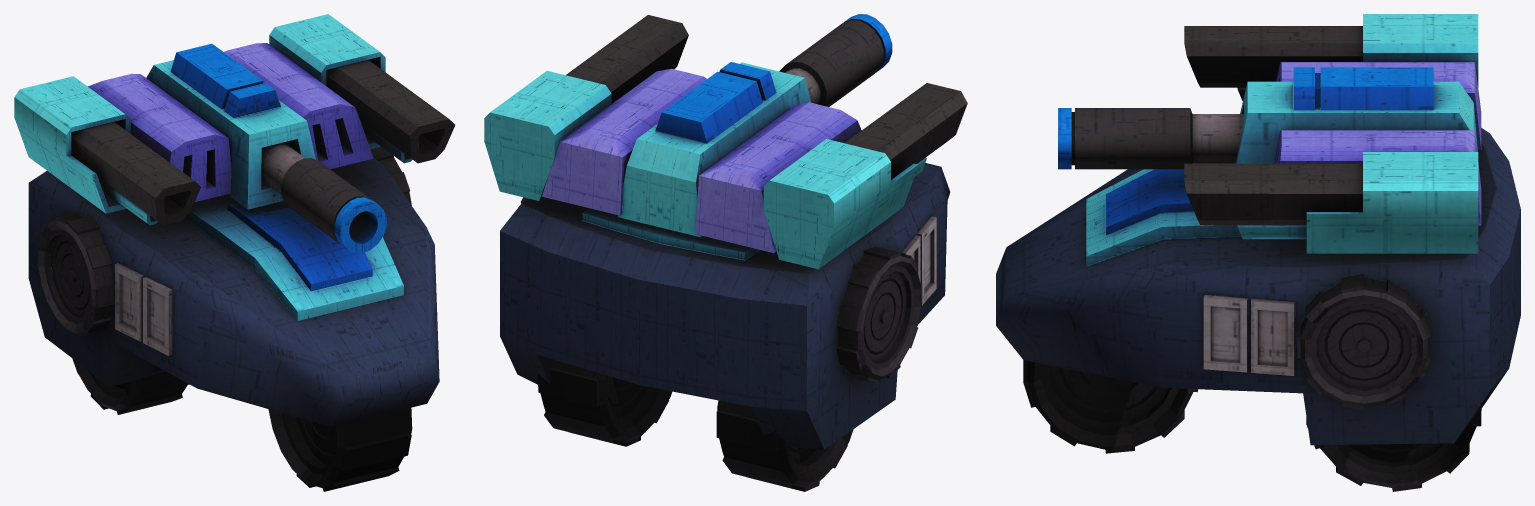
The model's file is PlayerA13.obj.
3 renders of one model, left to right at view 1: azimuth 30°, elevation 25°; view 2: azimuth 150°, elevation 25°; view 3: azimuth 270°, elevation 25°, orthographic. The views are drawn at different scales.
Visible parts, largest first — view 1: Object001, Object002, Object004, Object003; view 2: Object001, Object002, Object003; view 3: Object001, Object002, Object004, Object003.
Part boxes in pixels (x1,y1,x2,y2): Object001: (28, 43, 439, 426); Object002: (14, 14, 455, 225); Object004: (268, 407, 412, 491); Object003: (72, 358, 189, 414); Object001: (500, 14, 950, 449); Object002: (484, 15, 967, 269); Object003: (538, 359, 853, 491); Object001: (996, 62, 1520, 445); Object002: (1184, 14, 1478, 253); Object004: (1023, 360, 1197, 453); Object003: (1306, 407, 1481, 491).
Size of the model in its own units: 93.13 by 89.76 by 119.
Materials: 1 (1 with a texture image).
